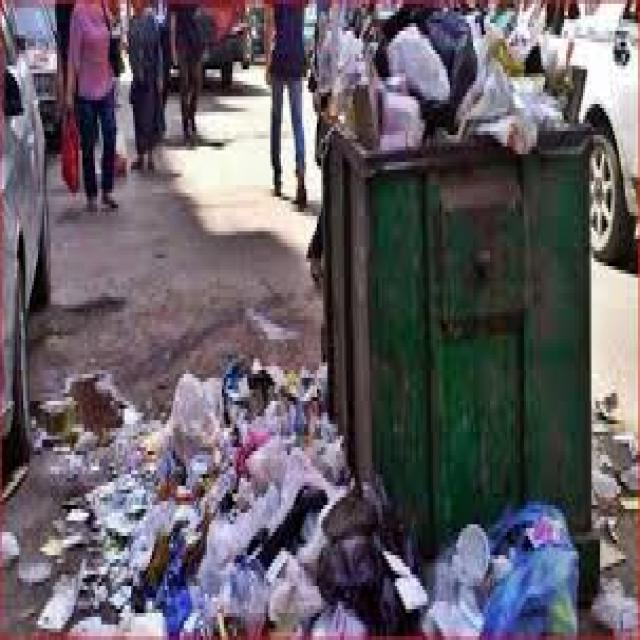garbage: (34, 97, 598, 630)
